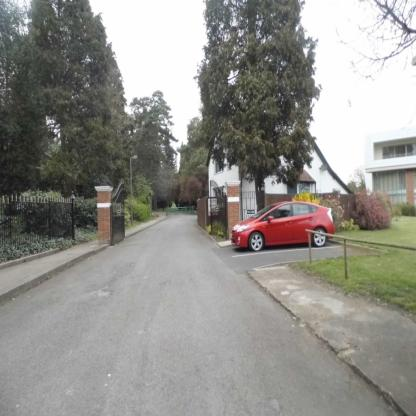Car: (233, 198, 334, 252)
